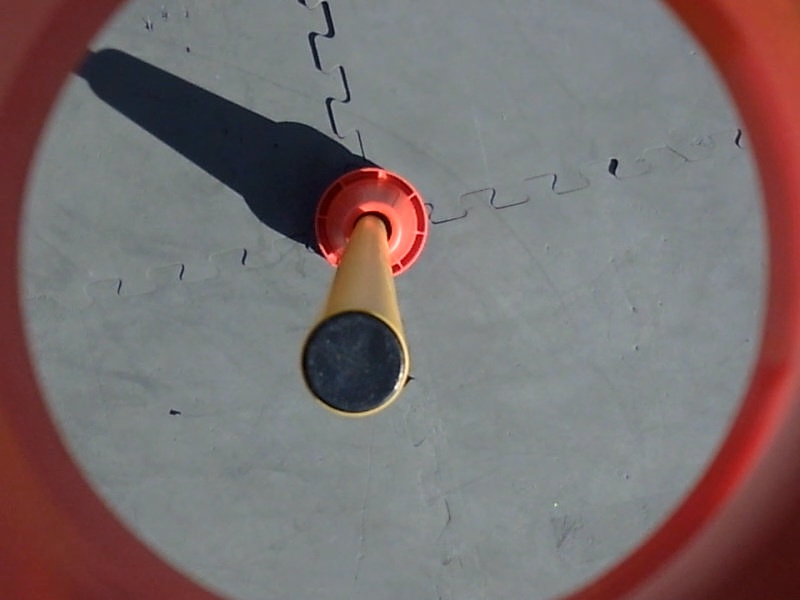tip: (299, 303, 418, 423)
